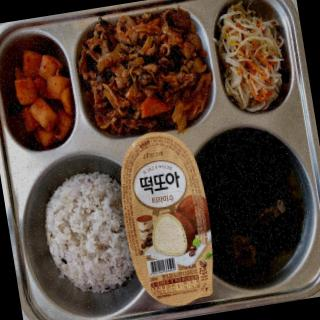Nasi: (39, 169, 137, 303)
